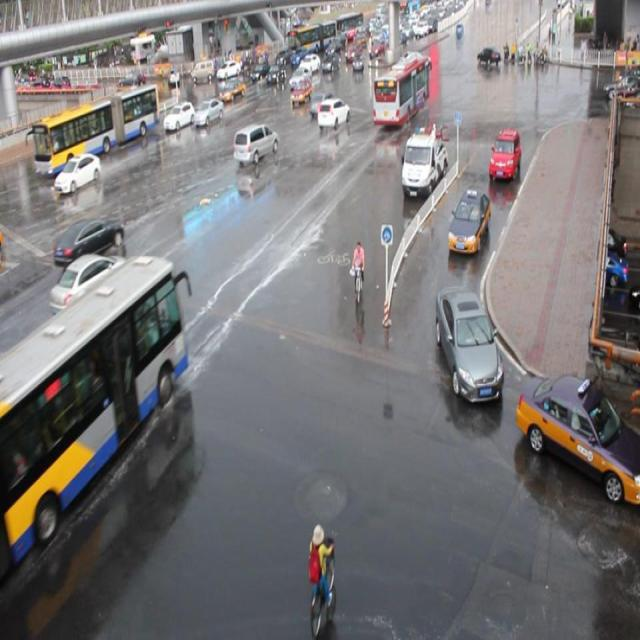BigCar: (0, 273, 188, 539), (44, 90, 160, 166), (388, 45, 432, 134)
car: (438, 274, 498, 407), (488, 112, 528, 190), (401, 123, 442, 199), (457, 172, 487, 269), (235, 116, 277, 177), (322, 102, 353, 140)
